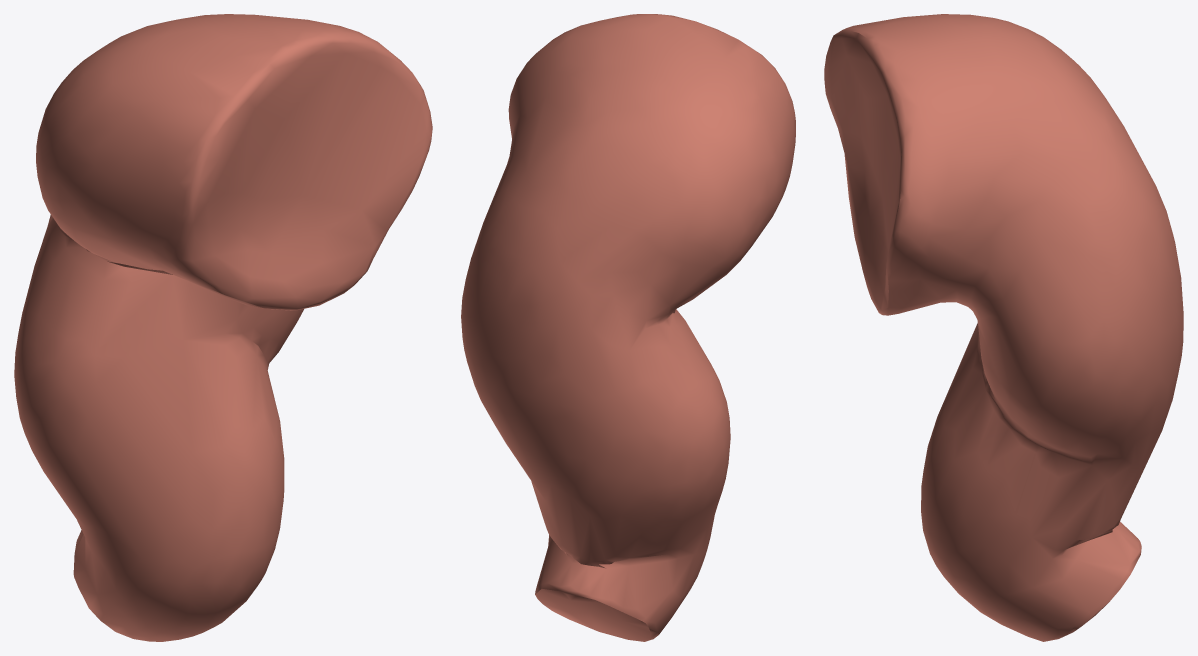
The model's file is digestive.pelvis.glb.
The picture shows the model from 3 angles, left to right: view 1: azimuth 30°, elevation 25°; view 2: azimuth 150°, elevation 25°; view 3: azimuth 270°, elevation 25°; orthographic projection. The views are drawn at different scales.
Visible parts, largest first — view 1: rectum; view 2: rectum; view 3: rectum.
Part boxes in pixels (x1=…): rectum: x1=14, y1=14, x2=432, y2=641; rectum: x1=461, y1=14, x2=795, y2=641; rectum: x1=824, y1=14, x2=1183, y2=641.
Size of the model in its own units: 0.0616 by 0.1166 by 0.0623.
